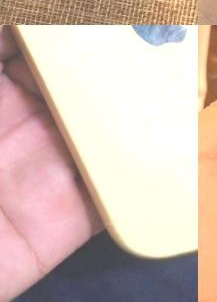scratch: (117, 25, 195, 50)
